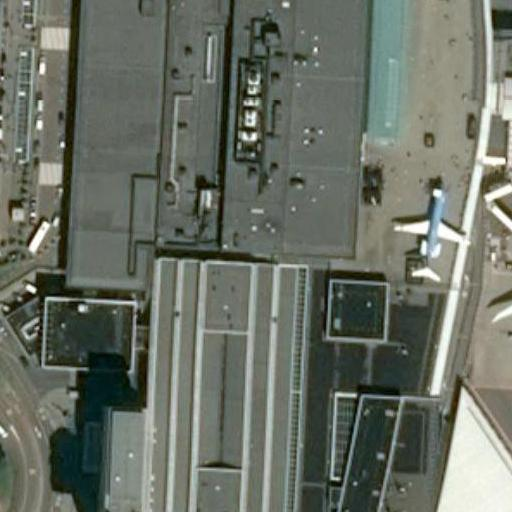Aircraft: (385, 175, 467, 278), (488, 212, 512, 386)
